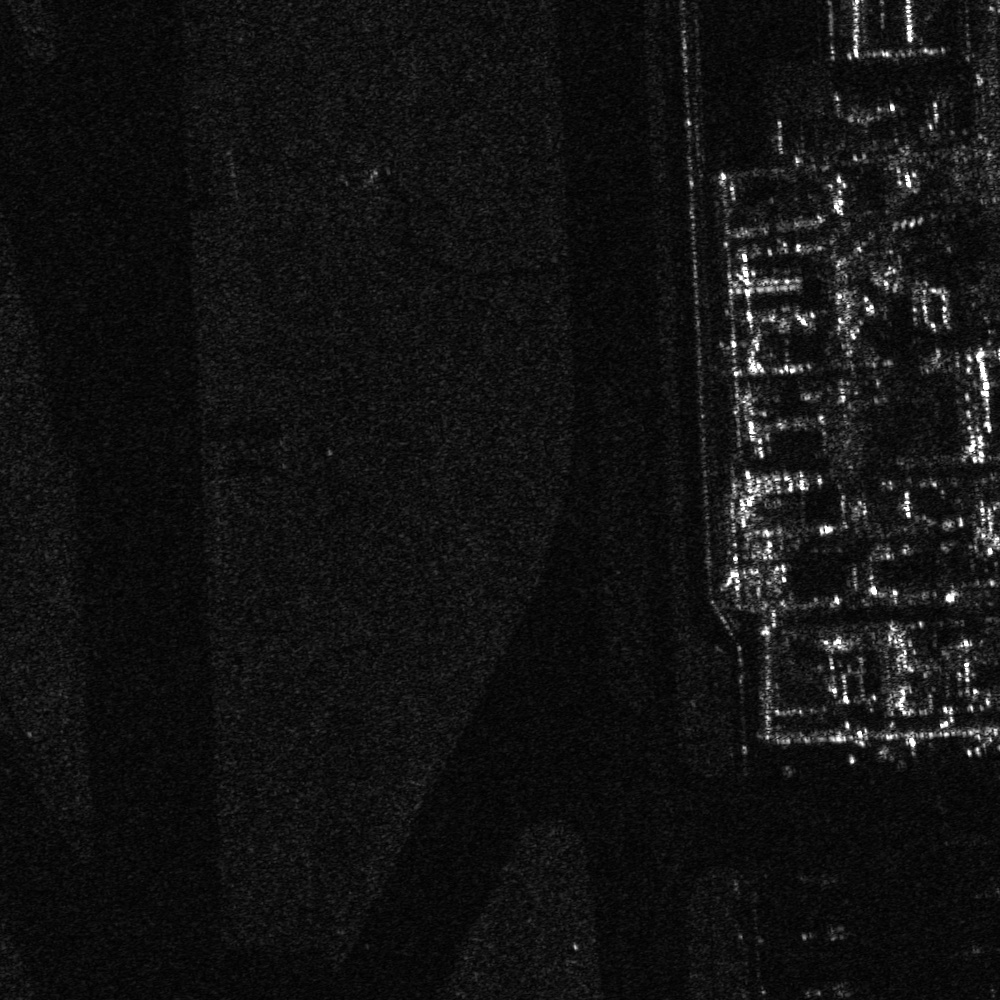ARJ21: (795, 912, 858, 955), (798, 968, 867, 999)
other: (786, 860, 842, 894)
